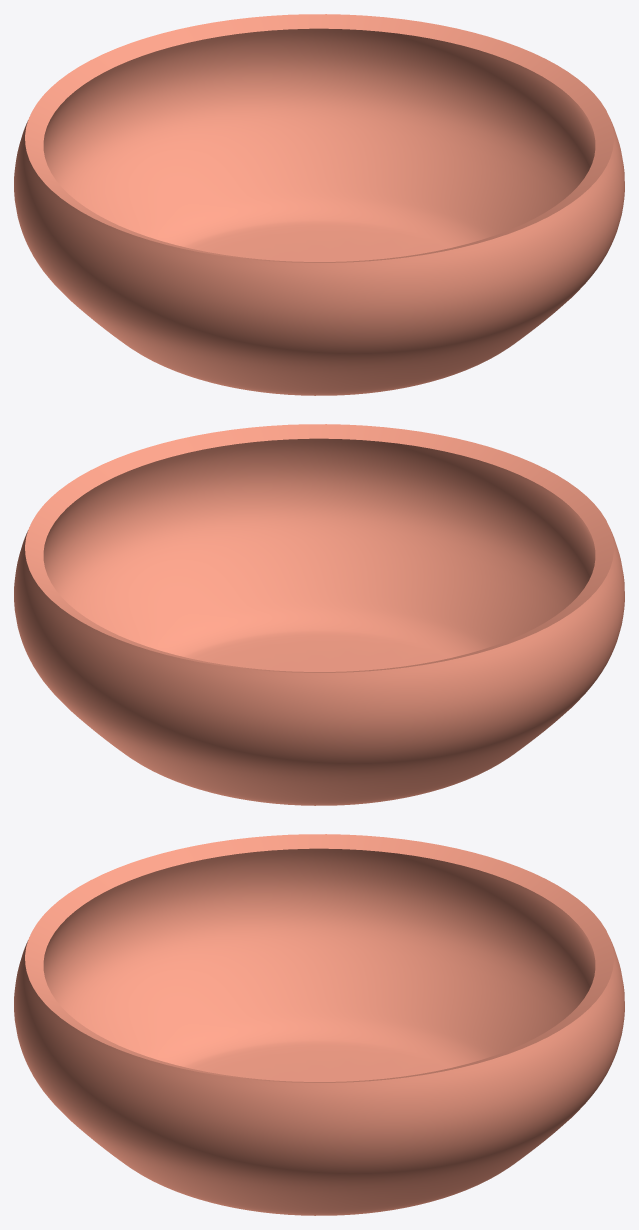
The model's file is cup.fbx.
3 views of the same model, one above another, from view 1: azimuth 30°, elevation 25°; view 2: azimuth 150°, elevation 25°; view 3: azimuth 270°, elevation 25° (orthographic).
Visible parts, largest first — view 1: Circle.005; view 2: Circle.005; view 3: Circle.005.
Part boxes in pixels (left/top/right/bottom): Circle.005: left=14, top=14, right=624, bottom=395; Circle.005: left=14, top=424, right=624, bottom=805; Circle.005: left=14, top=834, right=624, bottom=1215.
Bounding box in the file's own units: 26.2 × 8.47 × 26.2.
